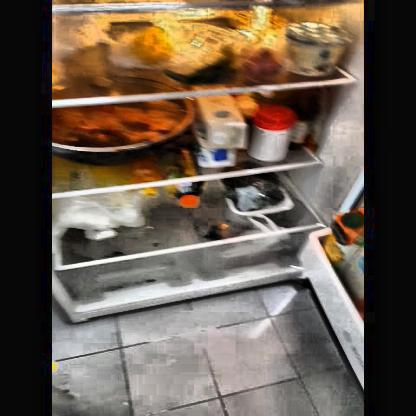green_chillies: (166, 57, 236, 83)
lemon: (132, 35, 172, 62)
milk: (193, 99, 247, 167)
tomato: (243, 51, 283, 78)
yoghurt: (283, 24, 348, 77)
